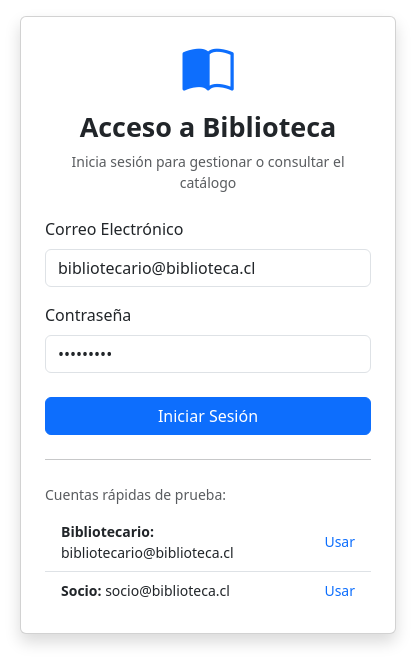
LoginPage › autocompleta credenciales de socio al hacer clic en acceso rápido
This screenshot has width=417, height=663.
Click the text "Socio: socio@biblioteca.cl": (145,590) [61, 580, 230, 601]
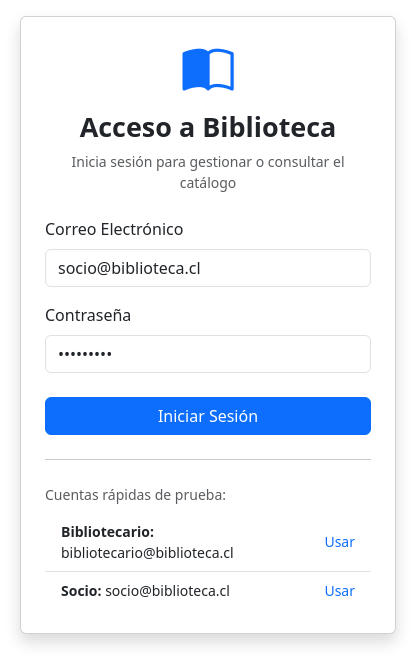
Expected: the password field showing "Socio123!" is shown, [45, 335, 371, 373]
Result: the field showing "socio@biblioteca.cl" is shown at [45, 249, 371, 287]
